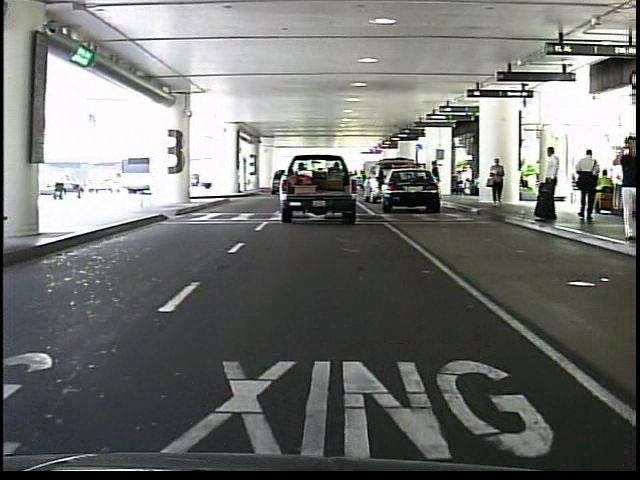person: (572, 145, 604, 224), (535, 143, 564, 225), (486, 154, 510, 212), (431, 158, 444, 202)
